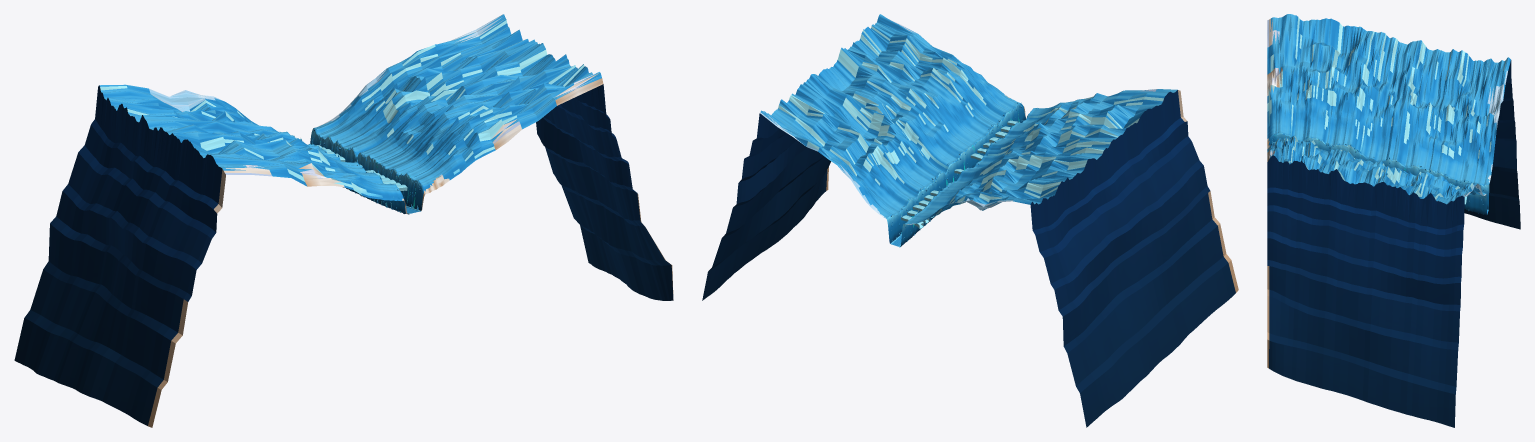
The picture shows the model from 3 angles, left to right: view 1: azimuth 30°, elevation 25°; view 2: azimuth 150°, elevation 25°; view 3: azimuth 270°, elevation 25°; orthographic projection. The views are drawn at different scales.
Parts seen in each view (by area): view 1: S04_Terrain_R_3953, S04_Terrain_R_3060, S04_Terrain_L_3060, S04_Terrain_L_3953, S04_Terrain_R_3506, S04_Terrain_L_3506; view 2: S04_Terrain_R_3953, S04_Terrain_R_3506, S04_Terrain_R_3060, S04_Terrain_L_3060, S04_Terrain_L_3506, S04_Terrain_L_3953; view 3: S04_Terrain_L_3060, S04_Terrain_L_3506, S04_Terrain_R_3060, S04_Terrain_L_3953, S04_Terrain_R_3953, S04_Terrain_R_3506.
Part boxes in pixels (x1,y1,x2,y2): S04_Terrain_R_3953: [89, 133, 407, 427]; S04_Terrain_R_3060: [14, 84, 324, 378]; S04_Terrain_L_3060: [310, 14, 621, 280]; S04_Terrain_L_3953: [383, 64, 673, 300]; S04_Terrain_R_3506: [49, 115, 365, 396]; S04_Terrain_L_3506: [346, 43, 651, 298]; S04_Terrain_R_3953: [996, 89, 1238, 343]; S04_Terrain_R_3506: [950, 123, 1180, 386]; S04_Terrain_R_3060: [899, 167, 1134, 427]; S04_Terrain_L_3060: [702, 81, 935, 300]; S04_Terrain_L_3506: [751, 44, 982, 259]; S04_Terrain_L_3953: [801, 14, 1026, 220]; S04_Terrain_L_3060: [1381, 171, 1486, 427]; S04_Terrain_L_3506: [1310, 148, 1407, 406]; S04_Terrain_R_3060: [1415, 49, 1520, 229]; S04_Terrain_L_3953: [1267, 135, 1332, 385]; S04_Terrain_R_3953: [1267, 14, 1362, 151]; S04_Terrain_R_3506: [1342, 29, 1437, 175].
Size of the model in its own units: 2903 by 1509 by 1489.
1 material, 1 textured.
